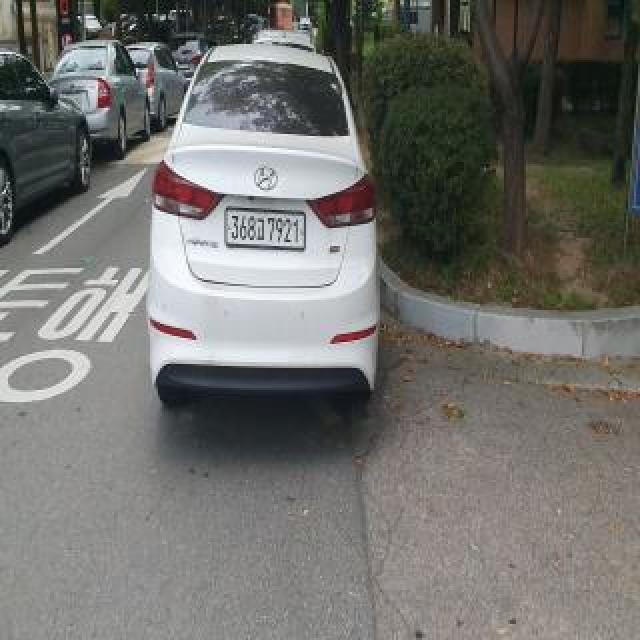car: (146, 34, 389, 423)
illegal_plate: (224, 203, 308, 259)
